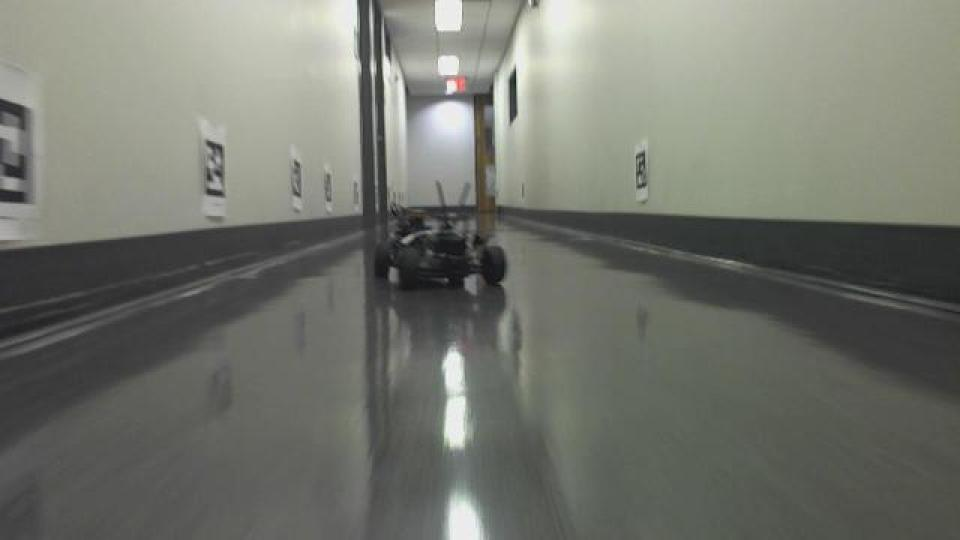car: (369, 180, 509, 294)
